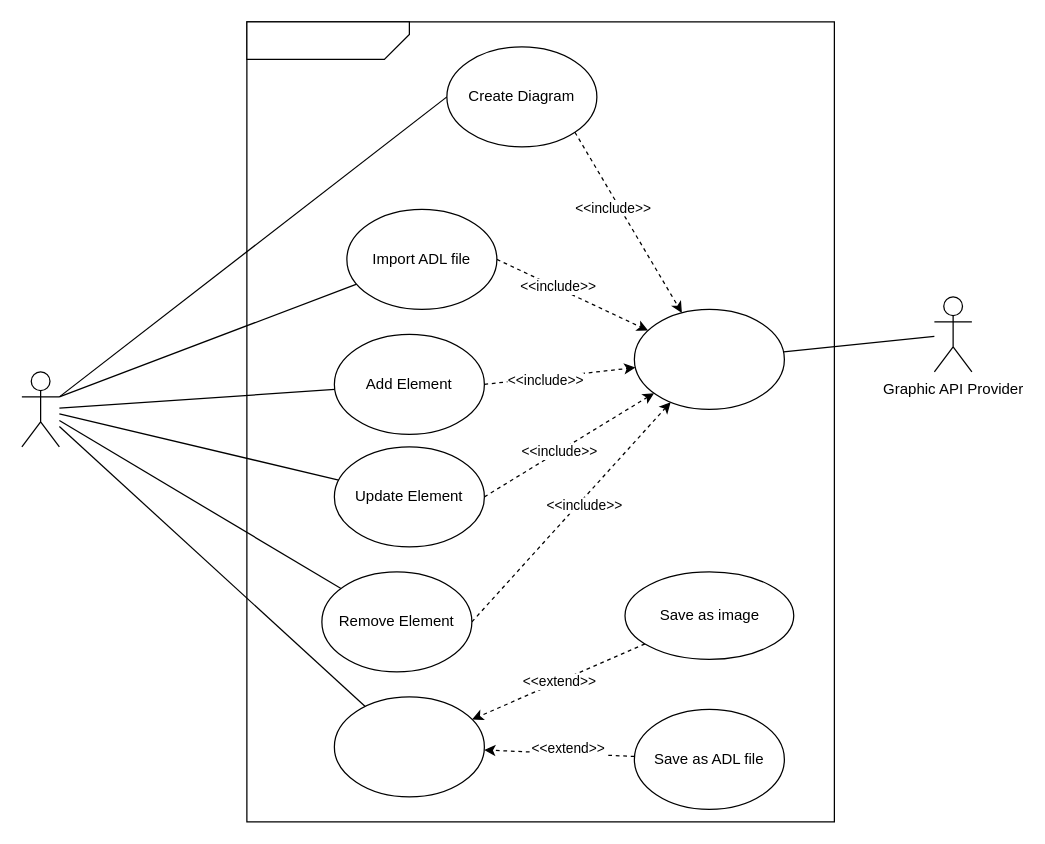
Image size: 1045x844. Some labels were removed from this diagram. The box of each missing label's shape, as (x1, y1, x2, y2) in pixels:
ADL Framework: (246, 21, 409, 59)
Render Bitmap: (633, 308, 784, 409)
Save Diagram: (333, 696, 484, 797)
User: (21, 371, 59, 447)
